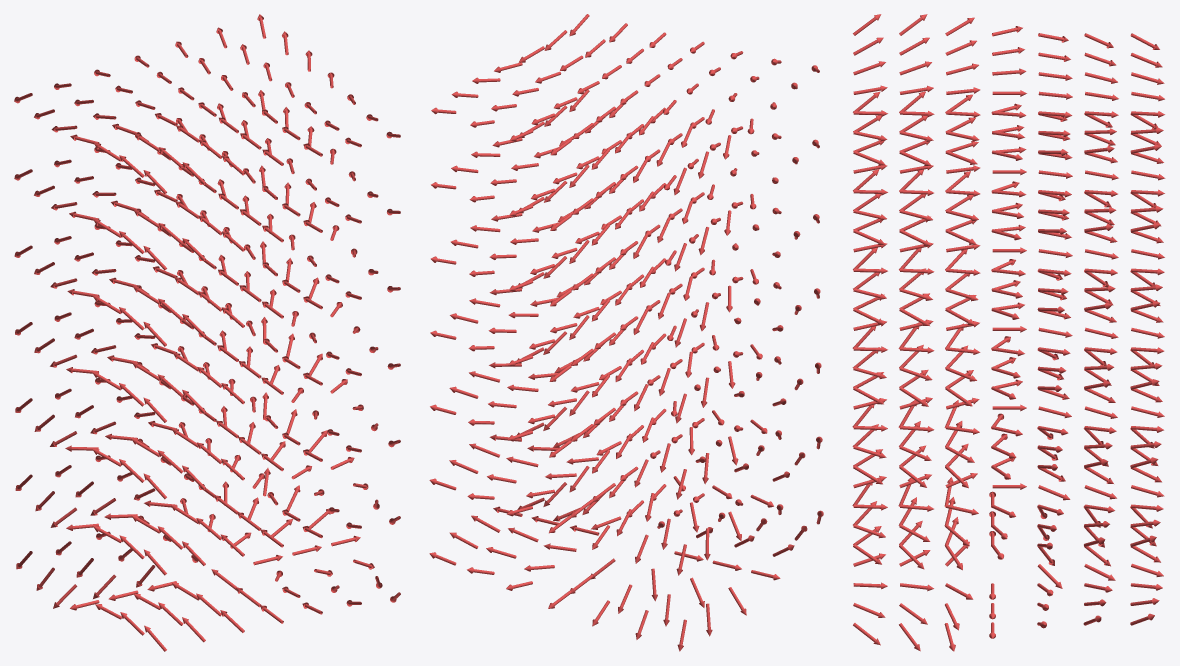
Rendered from campo.fbx.
3 renders of one model, left to right at view 1: azimuth 30°, elevation 25°; view 2: azimuth 150°, elevation 25°; view 3: azimuth 270°, elevation 25°, orthographic. The views are drawn at different scales.
Visible parts, largest first — view 1: campo_vectorial_flechas:campo_vectorial; view 2: campo_vectorial_flechas:campo_vectorial; view 3: campo_vectorial_flechas:campo_vectorial.
Part boxes in pixels (x1,y1,x2,y2): campo_vectorial_flechas:campo_vectorial: (14,14,400,651); campo_vectorial_flechas:campo_vectorial: (429,14,823,651); campo_vectorial_flechas:campo_vectorial: (852,14,1165,651).
Size of the model in its own units: 10 by 16.35 by 9.02.
